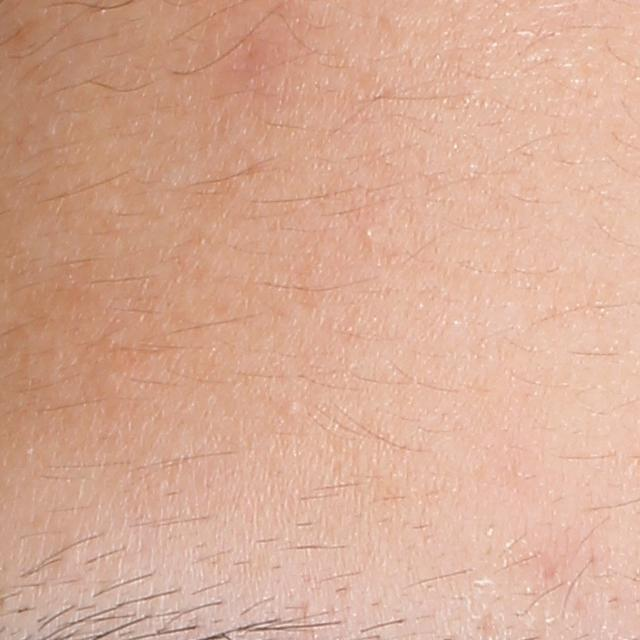comedo: (281, 397, 306, 418), (361, 225, 379, 242)
